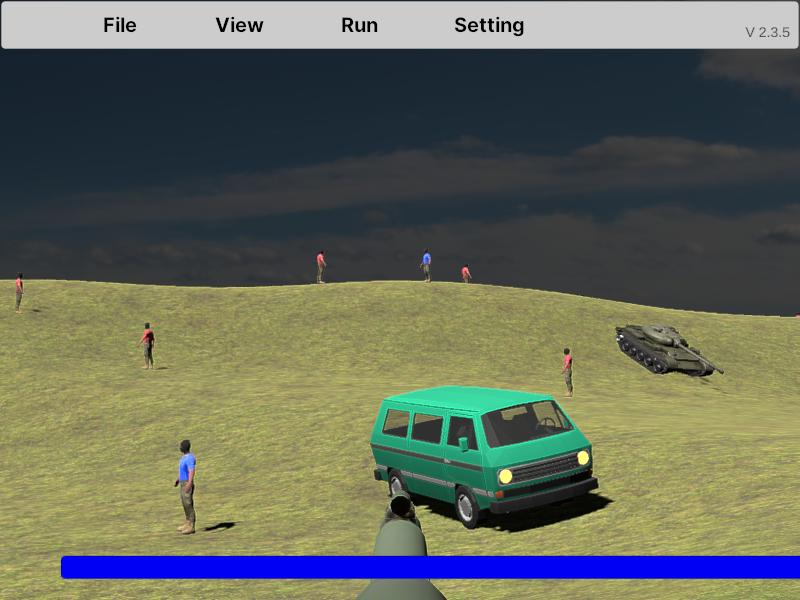Human: (174, 439, 196, 534), (138, 321, 154, 371)
Tank: (614, 322, 724, 378)
car: (370, 387, 599, 529)
